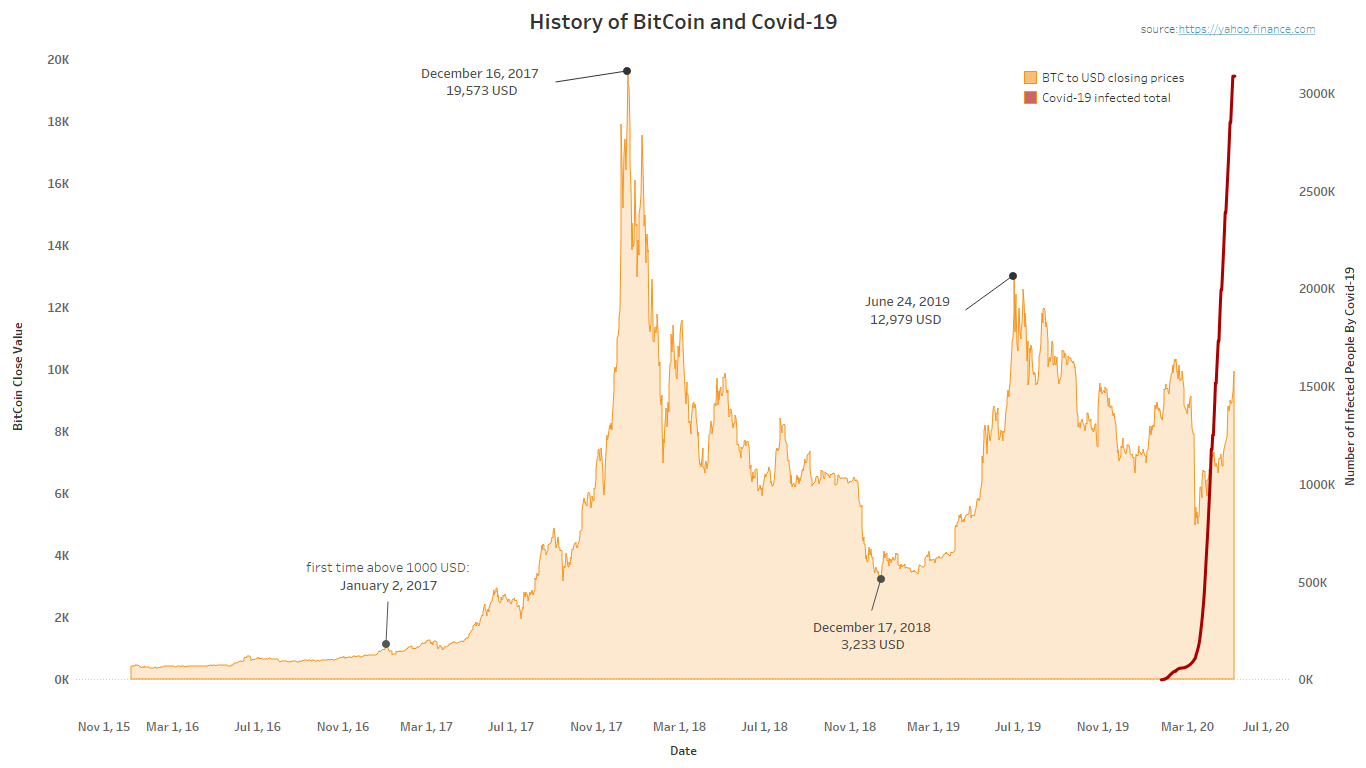

Layout of this report page (visuals, bound fields, positions):
{"tool":"tableau","page":{"name":"BitcoinHistory","canvas":[1366,768],"ordinal":0},"visuals":[{"type":"worksheet","title":"Recent History of BitCoin","mark":"Line","rows":["Close (BTC-USD.csv)","Daily New Infections (Global)"],"cols":["Date (BTC-USD.csv)"],"box":[2,0,1363,766]},{"type":"text","box":[1138,10,219,38]},{"type":"legend","title":"Recent History of BitCoin","param":"[federated.0rg4kuo0qrrmle1eso1do0pyr2xw].[:Measure Names]","box":[1020,67,188,50]}]}

Visuals, with their boxes in screenshot pixels (x1, y1, x2, y2), scaled from the page's 1366x768 canvas onto the 1366x768 screenshot:
"Recent History of BitCoin" worksheet (Line marks): (2, 0, 1365, 766)
text: (1138, 10, 1357, 48)
"Recent History of BitCoin" legend: (1020, 67, 1208, 117)
